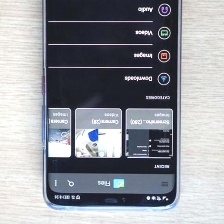phone: (38, 0, 183, 216)
